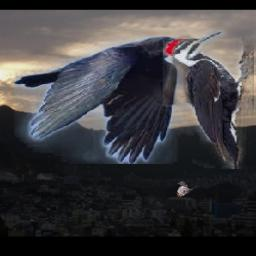Crow: (15, 36, 190, 164)
Sparrow: (177, 182, 195, 198)
Woodpecker: (164, 31, 255, 170)
